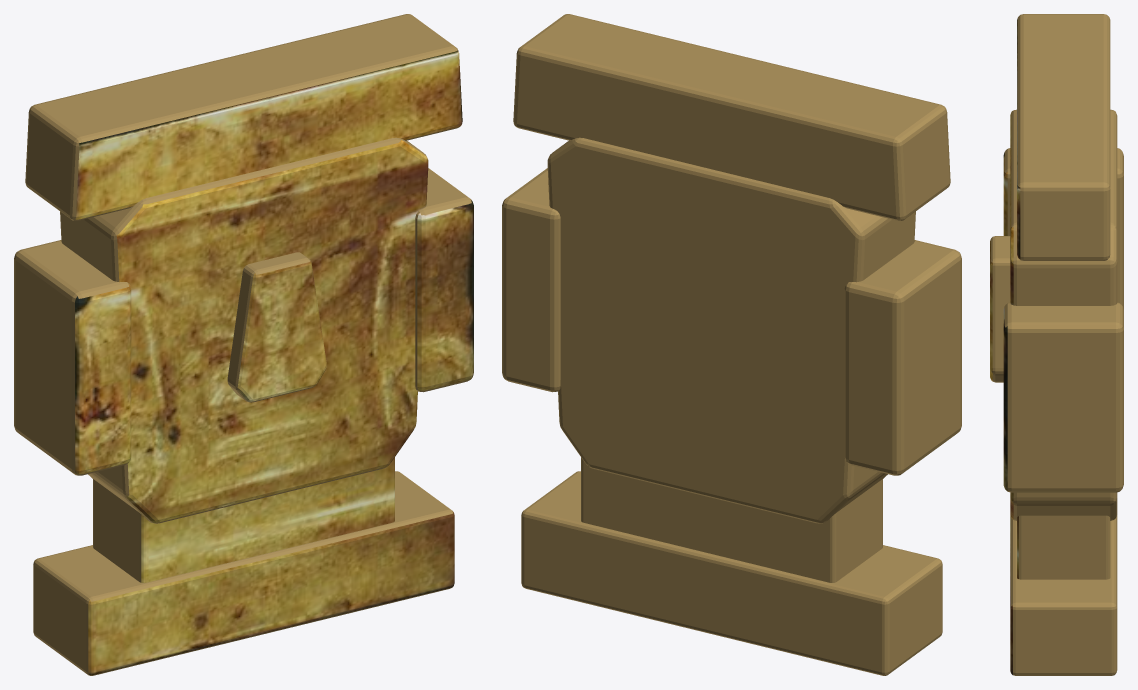
3 renders of one model, left to right at view 1: azimuth 30°, elevation 25°; view 2: azimuth 150°, elevation 25°; view 3: azimuth 270°, elevation 25°, orthographic. The views are drawn at different scales.
Visible parts, largest first — view 1: WEB_A09; view 2: WEB_A09; view 3: WEB_A09.
Boxes of the visible parts, x1=… form: WEB_A09: x1=14, y1=14, x2=473, y2=675; WEB_A09: x1=502, y1=14, x2=961, y2=675; WEB_A09: x1=990, y1=14, x2=1123, y2=675.
Size of the model in its own units: 0.096 by 0.1229 by 0.03.
2 materials, 1 textured.
